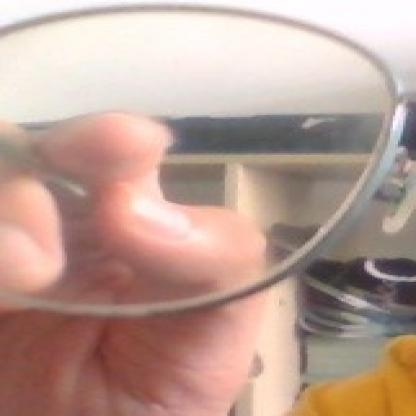not trash: (0, 9, 403, 311)
